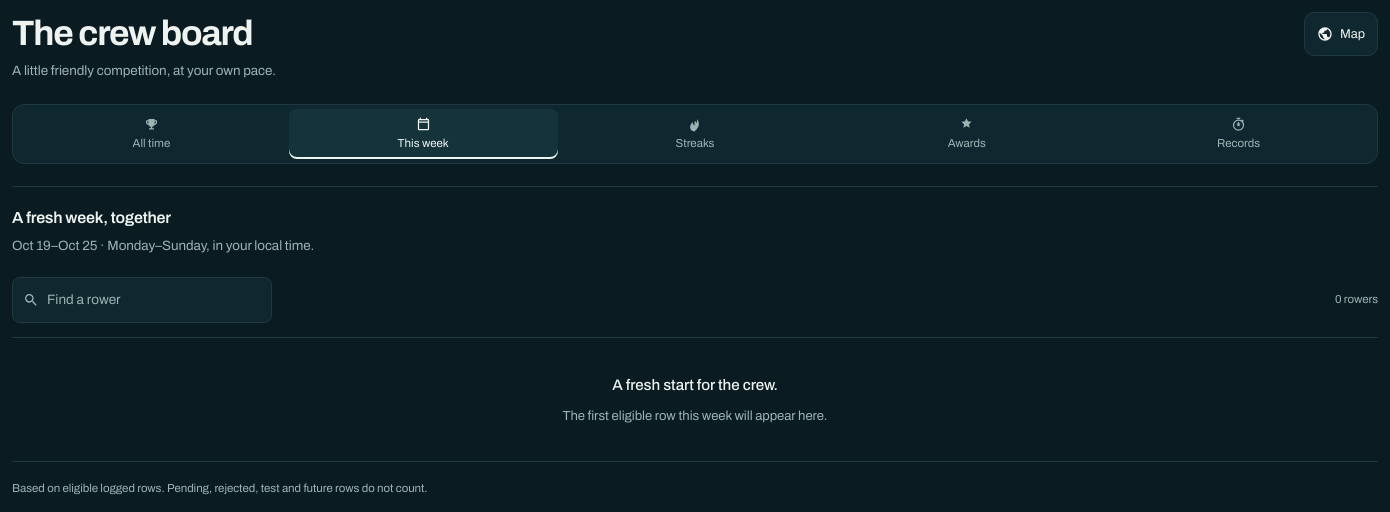
Test: empty weekly and awards boards describe their actual state instead of inventing activity
Step 1. Click the button "Awards" → x=967, y=134, box [832,109,1101,159]
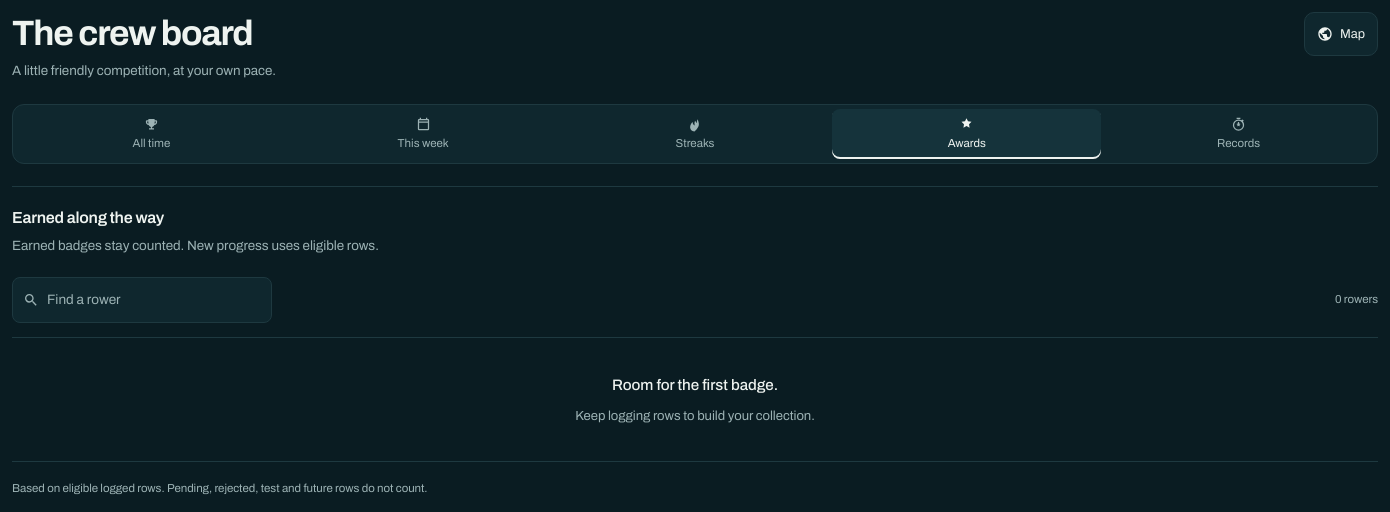
Now the text "Room for the first badge" is shown, box [612,377,778,393]
